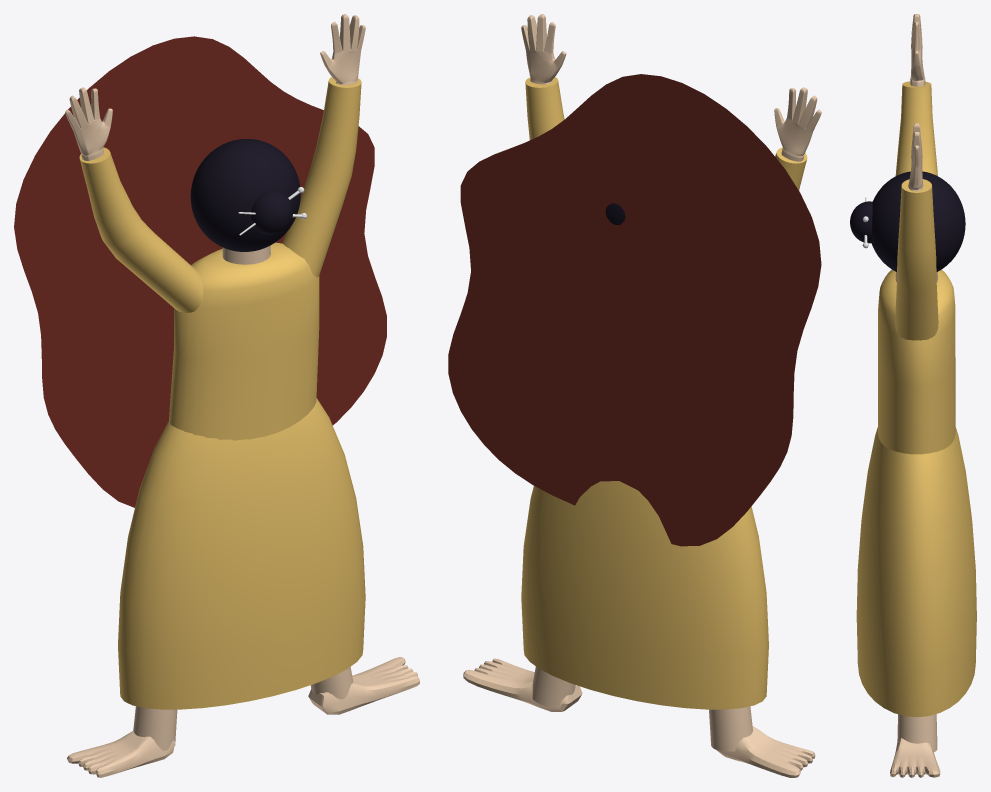
The model's file is deadwoman.fbx.
3 views of the same model, side by side, from view 1: azimuth 30°, elevation 25°; view 2: azimuth 150°, elevation 25°; view 3: azimuth 270°, elevation 25° (orthographic). The views are drawn at different scales.
Parts seen in each view (by area): view 1: Cylinder.025, Plane.008, Cylinder.032, Cylinder.031, Cylinder.036, Cylinder.033; view 2: Plane.008, Cylinder.025, Cylinder.031, Cylinder.036; view 3: Cylinder.025, Cylinder.032, Cylinder.031, Cylinder.036, Cylinder.033.
Part boxes in pixels (left/top/right/bottom): Cylinder.025: left=79, top=77, right=365, bottom=709; Plane.008: left=14, top=36, right=386, bottom=507; Cylinder.032: left=190, top=139, right=300, bottom=251; Cylinder.031: left=67, top=657, right=419, bottom=777; Cylinder.036: left=65, top=14, right=365, bottom=264; Cylinder.033: left=251, top=190, right=292, bottom=234; Plane.008: left=448, top=74, right=821, bottom=546; Cylinder.025: left=521, top=77, right=807, bottom=709; Cylinder.031: left=463, top=658, right=815, bottom=777; Cylinder.036: left=521, top=14, right=821, bottom=161; Cylinder.025: left=856, top=81, right=976, bottom=717; Cylinder.032: left=871, top=171, right=965, bottom=271; Cylinder.031: left=890, top=714, right=940, bottom=777; Cylinder.036: left=895, top=14, right=937, bottom=282; Cylinder.033: left=850, top=201, right=872, bottom=243.
Size of the model in its own units: 115 by 203 by 36.47.
Materials: 5 (5 with a texture image).
